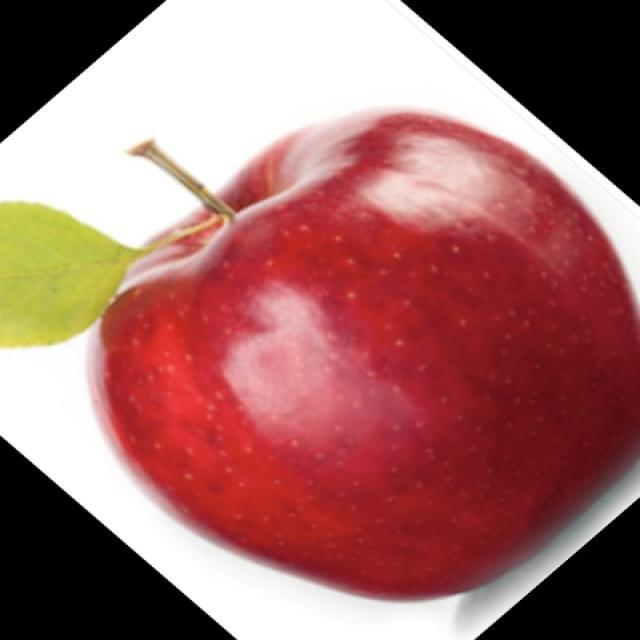Fresh Apple: (113, 108, 640, 571)
